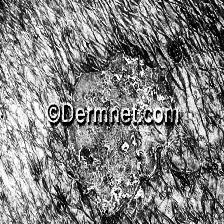Benign Marking or Mole: (60, 60, 174, 210)
